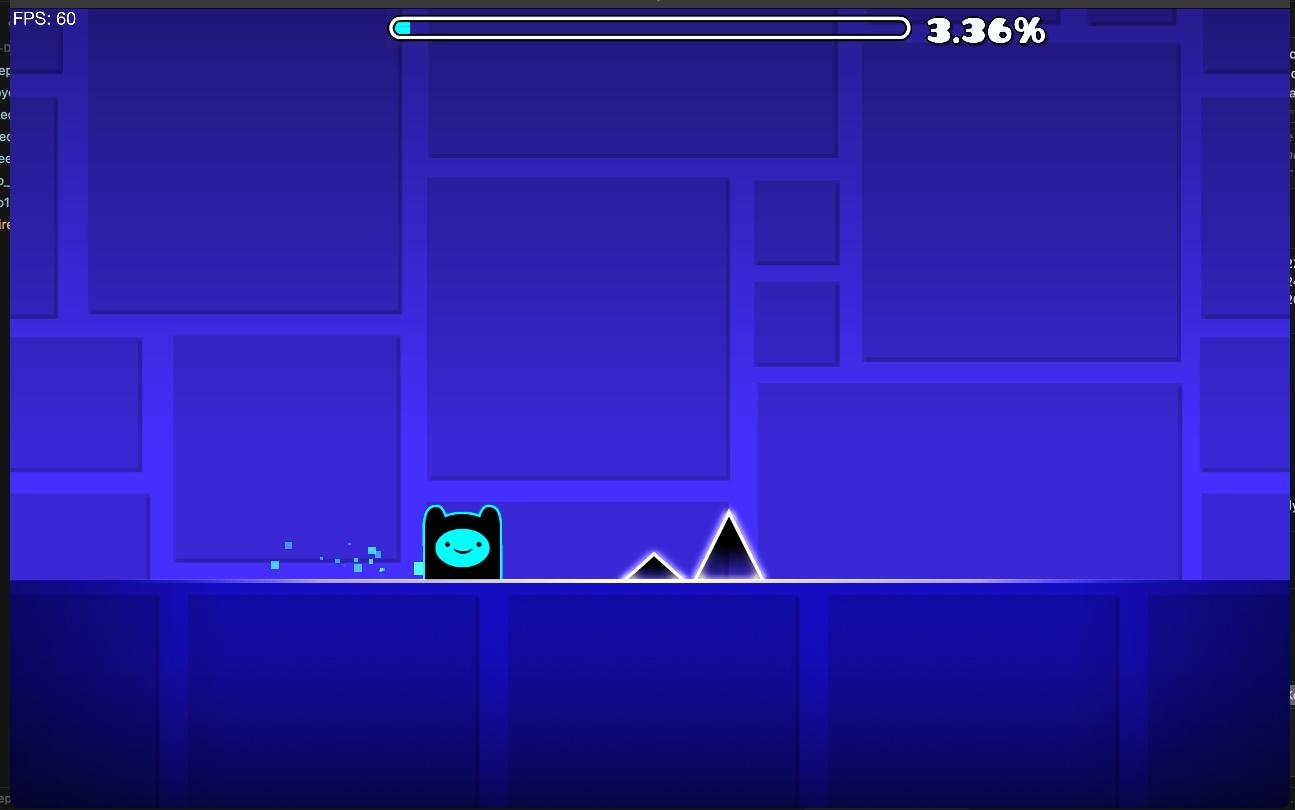block: (11, 577, 1289, 810)
player: (424, 505, 501, 578)
spike: (694, 511, 763, 578), (625, 553, 682, 578)
